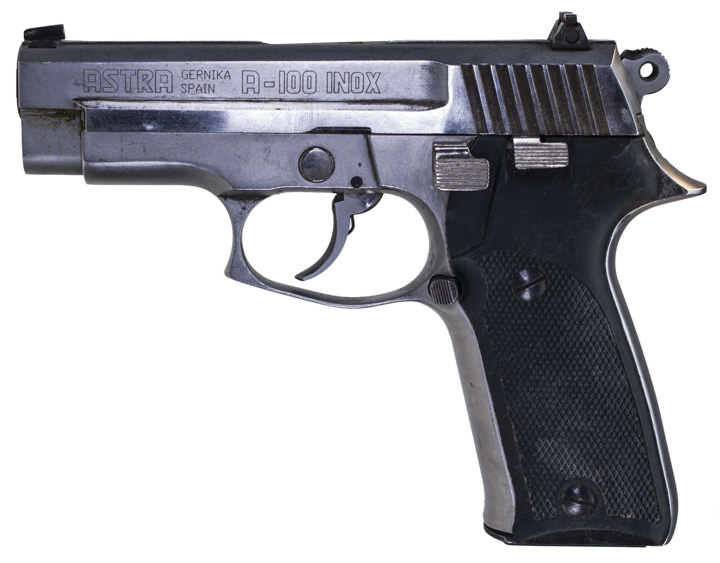Arma Real: (9, 12, 708, 554)
